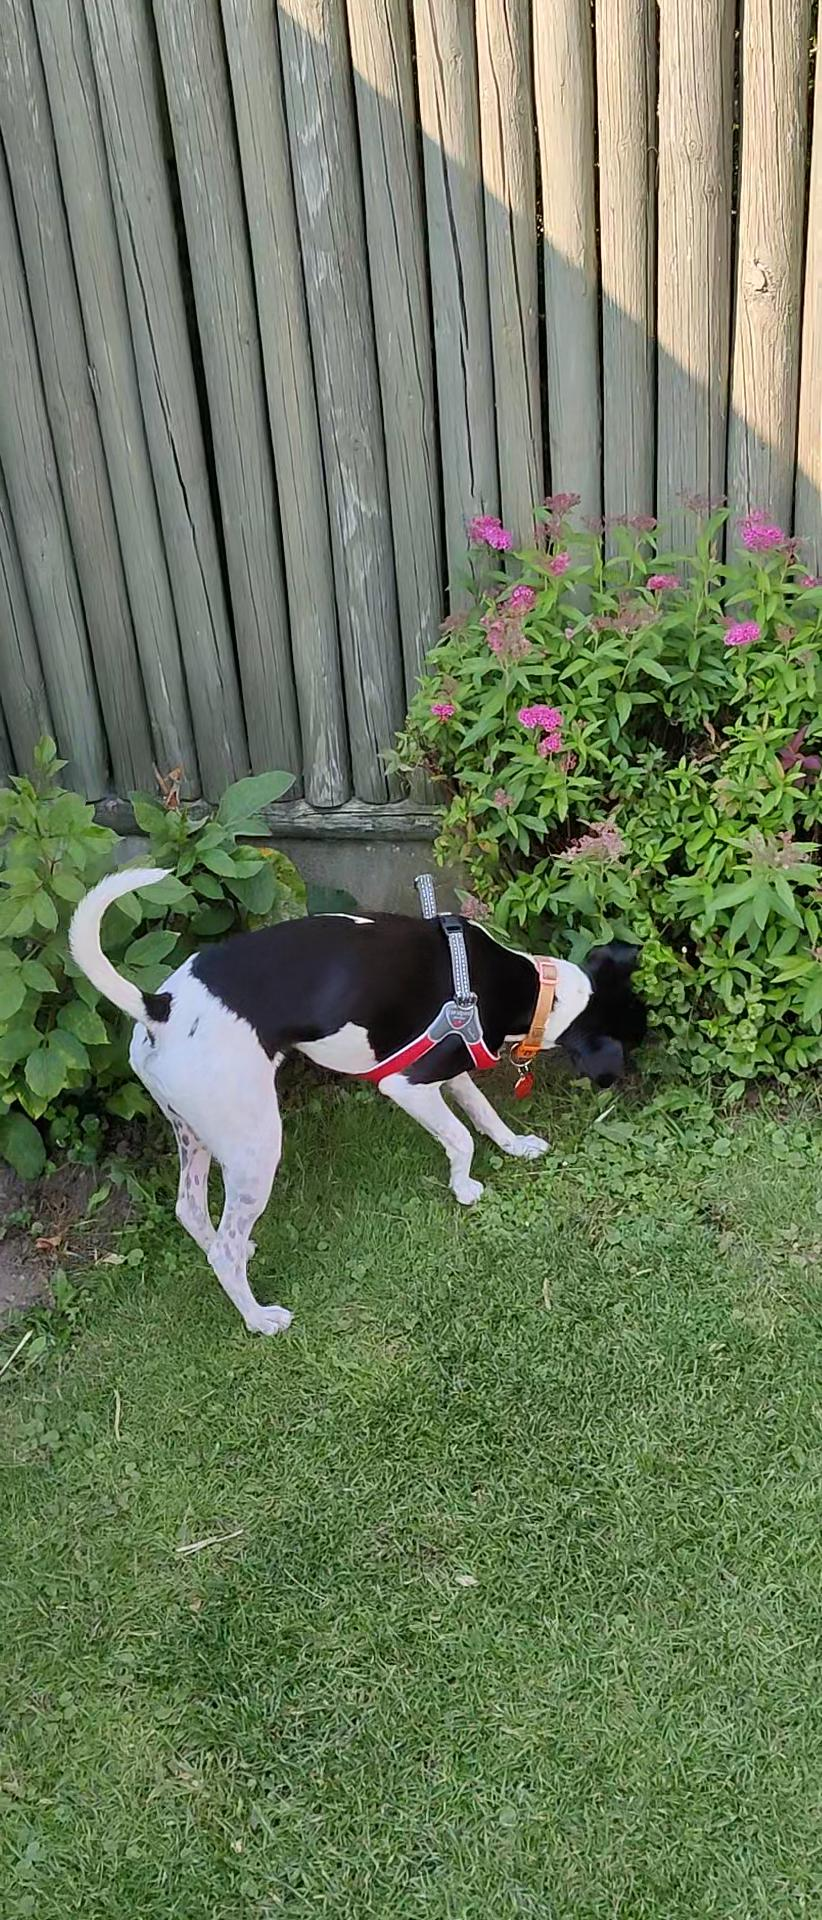Dog: (58, 852, 655, 1340)
